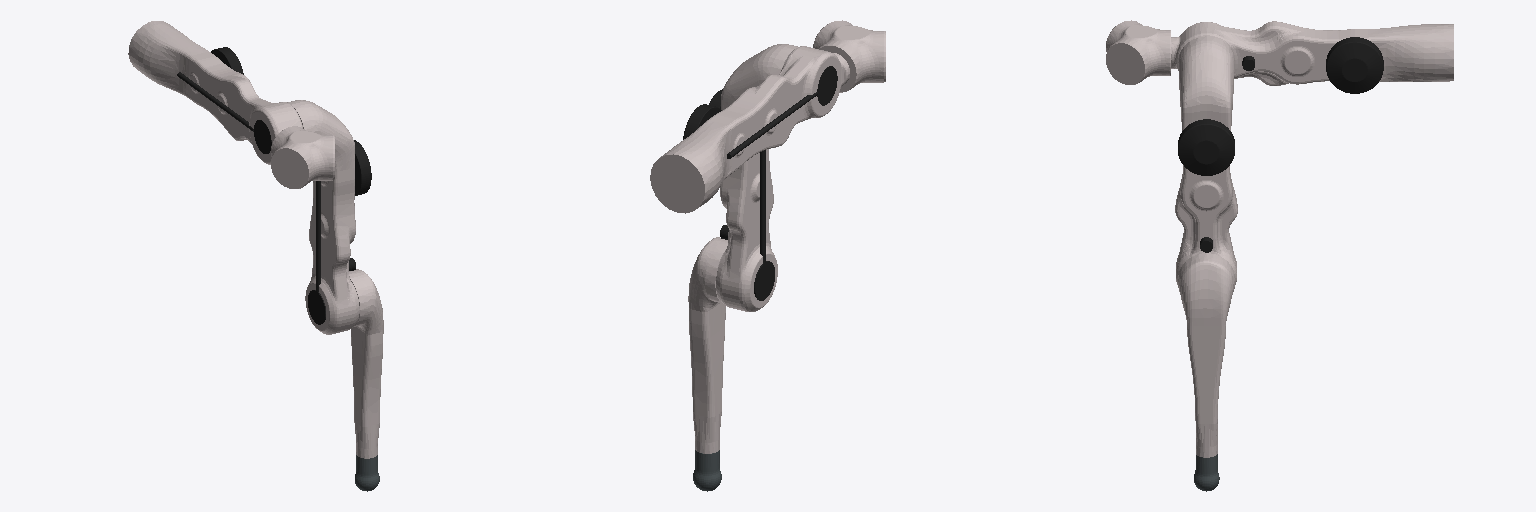
The robot description file, URDF, robot "fingerpro":
<?xml version="1.0" ?>
<!-- =================================================================================== -->
<!-- |    This document was autogenerated by xacro from robot_properties_fingers/xacro/pro/fingerpro.urdf.xacro | -->
<!-- |    EDITING THIS FILE BY HAND IS NOT RECOMMENDED                                 | -->
<!-- =================================================================================== -->
<robot name="fingerpro">
  <!--
    Frames are defined such that they all align with the base frame when all
    joints are at position zero.

    In zero-configuration the origins of all joints are in one line.

    In zero-configuration the origin of the base link is exactly above the
    finger tip which should make it easy to place the finger in the world.
    -->
  <!--
    Frames are defined such that they all align with the base frame when all
    joints are at position zero.

    In zero-configuration the origins of all joints are in one line.

    In zero-configuration the origin of the base link is exactly above the
    finger tip which should make it easy to place the finger in the world.
    -->
  <material name="fingerpro_shell">
    <!-- colour from image -->
    <color rgba="0.804 0.764 0.761 1.0"/>
  </material>
  <material name="fingerpro_tip">
    <!-- colour from image -->
    <color rgba="0.33 0.36 0.37 1.0"/>
  </material>
  <material name="fingerpro_motor">
    <color rgba="0.17 0.17 0.17 1.0"/>
  </material>
  <!--
        Fixed links for the finger base (parts where the upper link is mounted).
        Note: Link Frames already coincide with the joint location
        -->
  <link name="finger_base_link">
    <inertial>
      <mass value="0"/>
      <inertia ixx="0.0" ixy="0.0" ixz="0.0" iyy="0.0" iyz="0.0" izz="0.0"/>
    </inertial>
  </link>
  <link name="finger_upper_link">
    <visual>
      <origin rpy="0 0 0" xyz="0 0 0"/>
      <geometry>
        <mesh filename="package://robot_properties_fingers/meshes/pro/prox-sim.stl" scale="1.0 1.0 1.0"/>
      </geometry>
      <material name="fingerpro_shell"/>
    </visual>
    <collision>
      <origin rpy="0 0 0" xyz="0 0 0"/>
      <geometry>
        <mesh filename="package://robot_properties_fingers/meshes/pro/prox-sim.stl" scale="1.0 1.0 1.0"/>
      </geometry>
    </collision>
    <inertial>
      <origin rpy="0 0 0" xyz="0.006 0.122 0.000"/>
      <mass value="0.26689"/>
      <inertia ixx="0.00102362" ixy="0.00000889" ixz="-0.00000019" iyx="0.00000889" iyy="0.00006450" iyz="0.00000106" izx="-0.00000019" izy="0.00000106" izz="0.00102225"/>
    </inertial>
  </link>
  <link name="finger_upper_link_visuals">
    <!-- motor -->
    <visual>
      <origin xyz="0.01569 0.1643 0"/>
      <geometry>
        <mesh filename="package://robot_properties_fingers/meshes/pro/motor_sim.stl"/>
      </geometry>
      <material name="fingerpro_motor"/>
    </visual>
    <!-- end stop -->
    <visual>
      <origin rpy="0 1.5707963267948966 0" xyz="0.015 0.083 0"/>
      <geometry>
        <cylinder length="0.015" radius="0.005"/>
      </geometry>
      <material name="fingerpro_motor"/>
    </visual>
    <!-- cables -->
    <visual>
      <origin rpy="1.5707963267948966 0 0" xyz="-0.008 0.124 0"/>
      <geometry>
        <cylinder length="0.12" radius="0.002"/>
      </geometry>
      <material name="fingerpro_motor"/>
    </visual>
    <!-- opening on lower joint -->
    <visual>
      <origin rpy="0 1.5707963267948966 0" xyz="-0.0085 0.050 0"/>
      <geometry>
        <cylinder length="0.002" radius="0.014"/>
      </geometry>
      <material name="fingerpro_motor"/>
    </visual>
    <inertial>
      <mass value="0"/>
      <inertia ixx="0.0" ixy="0.0" ixz="0.0" iyy="0.0" iyz="0.0" izz="0.0"/>
    </inertial>
  </link>
  <joint name="finger_upper_visuals_joint" type="fixed">
    <parent link="finger_upper_link"/>
    <child link="finger_upper_link_visuals"/>
    <origin xyz="0 0 0"/>
  </joint>
  <link name="finger_middle_link">
    <visual>
      <origin rpy="0 0 0" xyz="0 0 0"/>
      <geometry>
        <mesh filename="package://robot_properties_fingers/meshes/pro/int_sim.stl" scale="1.0 1.0 1.0"/>
      </geometry>
      <material name="fingerpro_shell"/>
    </visual>
    <collision>
      <origin rpy="0 0 0" xyz="0 0 0"/>
      <geometry>
        <mesh filename="package://robot_properties_fingers/meshes/pro/int_sim.stl" scale="1.0 1.0 1.0"/>
      </geometry>
    </collision>
    <inertial>
      <origin rpy="0 0 0" xyz="0.03935008 -0.00012438 -0.08666705"/>
      <mass value="0.27163"/>
      <inertia ixx="0.00094060" ixy="-0.00000046" ixz="-0.00003479" iyx="-0.00000046" iyy="0.00094824" iyz="0.00000164" izx="-0.00003479" izy="0.00000164" izz="0.00007573"/>
    </inertial>
  </link>
  <link name="finger_middle_link_visuals">
    <!-- motor -->
    <visual>
      <origin xyz="0.0488 0 -0.0462"/>
      <geometry>
        <mesh filename="package://robot_properties_fingers/meshes/pro/motor_sim.stl"/>
      </geometry>
      <material name="fingerpro_motor"/>
    </visual>
    <!-- end stop -->
    <visual>
      <origin rpy="0 1.5707963267948966 0" xyz="0.0488 0 -0.13"/>
      <geometry>
        <cylinder length="0.015" radius="0.005"/>
      </geometry>
      <material name="fingerpro_motor"/>
    </visual>
    <!-- cables -->
    <visual>
      <origin xyz="0.025 0 -0.09"/>
      <geometry>
        <cylinder length="0.12" radius="0.002"/>
      </geometry>
      <material name="fingerpro_motor"/>
    </visual>
    <!-- opening on lower joint -->
    <visual>
      <origin rpy="0 1.5707963267948966 0" xyz="0.024 0 -0.16"/>
      <geometry>
        <cylinder length="0.002" radius="0.014"/>
      </geometry>
      <material name="fingerpro_motor"/>
    </visual>
    <inertial>
      <mass value="0"/>
      <inertia ixx="0.0" ixy="0.0" ixz="0.0" iyy="0.0" iyz="0.0" izz="0.0"/>
    </inertial>
  </link>
  <joint name="finger_middle_visuals_joint" type="fixed">
    <parent link="finger_middle_link"/>
    <child link="finger_middle_link_visuals"/>
  </joint>
  <link name="finger_lower_link">
    <visual>
      <origin rpy="0 0 0" xyz="0 0 0"/>
      <geometry>
        <mesh filename="package://robot_properties_fingers/meshes/pro/tip_link_sim.stl" scale="1.0 1.0 1.0"/>
      </geometry>
      <material name="fingerpro_shell"/>
    </visual>
    <collision>
      <origin rpy="0 0 0" xyz="0 0 0"/>
      <geometry>
        <mesh filename="package://robot_properties_fingers/meshes/pro/tip_link_sim.stl" scale="1.0 1.0 1.0"/>
      </geometry>
    </collision>
    <inertial>
      <origin rpy="0 0 0" xyz="0.01632700 -0.00001095 -0.04284052"/>
      <mass value="0.05569"/>
      <inertia ixx="0.00013626" ixy="0.00000000" ixz="-0.00000662" iyx="0.00000000" iyy="0.00013372" iyz="0.00000004" izx="-0.00000662" izy="0.00000004" izz="0.00000667"/>
    </inertial>
  </link>
  <!-- fixed link for finger tip -->
  <link name="finger_tip_link">
    <visual>
      <origin rpy="0 0 0" xyz="0 0 0"/>
      <geometry>
        <mesh filename="package://robot_properties_fingers/meshes/pro/tip_sim.stl" scale="1.0 1.0 1.0"/>
      </geometry>
      <material name="fingerpro_tip"/>
    </visual>
    <collision>
      <origin rpy="0 0 0" xyz="0 0 0"/>
      <geometry>
        <mesh filename="package://robot_properties_fingers/meshes/pro/tip_sim.stl" scale="1.0 1.0 1.0"/>
      </geometry>
    </collision>
    <inertial>
      <origin rpy="0 0 0" xyz="0 0 0"/>
      <mass value="0.031"/>
      <inertia ixx="5.166666666666667e-07" ixy="0" ixz="0" iyy="5.166666666666667e-07" iyz="0" izz="5.166666666666667e-07"/>
    </inertial>
    <inertial>
      <origin rpy="0 0 0" xyz="-0.00001194 0.00000000 0.01560060"/>
      <mass value="0.0092"/>
      <inertia ixx="0.00000155" ixy="0.00000000" ixz="0.00000000" iyx="0.00000000" iyy="0.00000155" iyz="0.00000000" izx="0.00000000" izy="0.00000000" izz="0.00000032"/>
    </inertial>
  </link>
  <joint name="finger_lower_to_tip_joint" type="fixed">
    <parent link="finger_lower_link"/>
    <child link="finger_tip_link"/>
    <origin xyz="0.019 0 -0.16"/>
  </joint>
  <!-- kinematics -->
  <!-- NOTE: Joint limits are set according to soft limits in the
             configuration of the real robot (i.e. not according to physical
             limits). -->
  <joint name="finger_base_to_upper_joint" type="revolute">
    <parent link="finger_base_link"/>
    <child link="finger_upper_link"/>
    <limit effort="1000" lower="-0.33" upper="1.0" velocity="1000"/>
    <axis xyz="0 1 0"/>
    <origin rpy="0 0 0" xyz="0 0 0"/>
  </joint>
  <joint name="finger_upper_to_middle_joint" type="revolute">
    <parent link="finger_upper_link"/>
    <child link="finger_middle_link"/>
    <limit effort="1000" lower="0.0" upper="1.57" velocity="1000"/>
    <axis xyz="1 0 0"/>
    <origin rpy="0 0 0" xyz="0.01685 0.0505 0"/>
  </joint>
  <joint name="finger_middle_to_lower_joint" type="revolute">
    <parent link="finger_middle_link"/>
    <child link="finger_lower_link"/>
    <limit effort="1000" lower="-2.7" upper="0.0" velocity="1000"/>
    <axis xyz="1 0 0"/>
    <origin rpy="0 0 0" xyz="0.05015 0 -0.16"/>
  </joint>
  <!--
    Define the global base link and place the finger relative to it.
    Note: Here I've used the center point of the center piece as the origin 
    -->
  <link name="base_link">
    <!-- add inertial to suppress warning -->
    <inertial>
      <mass value="0"/>
      <inertia ixx="0.0" ixy="0.0" ixz="0.0" iyy="0.0" iyz="0.0" izz="0.0"/>
    </inertial>
  </link>
  <link name="center_link">
    <visual>
      <origin rpy="0 0 0" xyz="0 0 0"/>
      <geometry>
        <mesh filename="package://robot_properties_fingers/meshes/pro/center_axis_sim.stl" scale="1.0 1.0 1.0"/>
      </geometry>
      <material name="fingerpro_shell"/>
    </visual>
    <collision>
      <origin rpy="0 0 0" xyz="0 0 0"/>
      <geometry>
        <mesh filename="package://robot_properties_fingers/meshes/pro/center_axis_sim.stl" scale="1.0 1.0 1.0"/>
      </geometry>
    </collision>
    <inertial>
      <origin rpy="0 0 0" xyz="0 0 0"/>
      <mass value="1"/>
      <inertia ixx="4.166666666666667e-06" ixy="0" ixz="0" iyy="4.166666666666667e-06" iyz="0" izz="4.166666666666667e-06"/>
    </inertial>
  </link>
  <joint name="base_to_center_joint" type="fixed">
    <parent link="base_link"/>
    <child link="center_link"/>
    <origin xyz="0 0 0.29"/>
  </joint>
  <joint name="base_to_finger" type="fixed">
    <parent link="center_link"/>
    <child link="finger_base_link"/>
    <origin xyz="0 0 0"/>
  </joint>
</robot>

--- What the picture shows (computed from the rendered views, not written in the file) ---
3 views of the same robot in one strip: view 1: azimuth 30°, elevation 25°; view 2: azimuth 150°, elevation 25°; view 3: azimuth 270°, elevation 25° (orthographic).
Model fingerpro with 9 links and 8 joints (3 revolute, 5 fixed), rooted at base_link, posed all joints at 0.
Visible links, largest first — view 1: finger_upper_link, finger_middle_link, finger_lower_link, center_link, finger_middle_link_visuals, finger_upper_link_visuals, finger_tip_link; view 2: finger_upper_link, finger_middle_link, finger_lower_link, center_link, finger_upper_link_visuals, finger_middle_link_visuals, finger_tip_link; view 3: finger_upper_link, finger_middle_link, finger_lower_link, center_link, finger_upper_link_visuals, finger_middle_link_visuals, finger_tip_link.
Boxes of the visible links, bbox=[...] form: finger_upper_link: bbox=[128, 21, 302, 164]; finger_middle_link: bbox=[287, 100, 359, 334]; finger_lower_link: bbox=[349, 269, 383, 458]; center_link: bbox=[271, 126, 334, 188]; finger_middle_link_visuals: bbox=[308, 140, 371, 324]; finger_upper_link_visuals: bbox=[177, 47, 271, 153]; finger_tip_link: bbox=[355, 455, 379, 491]; finger_upper_link: bbox=[650, 46, 849, 213]; finger_middle_link: bbox=[716, 44, 797, 311]; finger_lower_link: bbox=[688, 237, 727, 453]; center_link: bbox=[813, 20, 885, 92]; finger_upper_link_visuals: bbox=[683, 66, 837, 158]; finger_middle_link_visuals: bbox=[709, 89, 774, 300]; finger_tip_link: bbox=[693, 450, 721, 491]; finger_upper_link: bbox=[1171, 21, 1453, 85]; finger_middle_link: bbox=[1175, 36, 1237, 284]; finger_lower_link: bbox=[1178, 253, 1234, 457]; center_link: bbox=[1106, 20, 1170, 84]; finger_upper_link_visuals: bbox=[1242, 37, 1383, 93]; finger_middle_link_visuals: bbox=[1178, 119, 1234, 252]; finger_tip_link: bbox=[1194, 454, 1219, 491].
Bounding box of the posed robot: 0.1251 × 0.2673 × 0.3555 m (x, y, z).
7 mesh visuals loaded from 6 distinct referenced files (6 binary STL).
